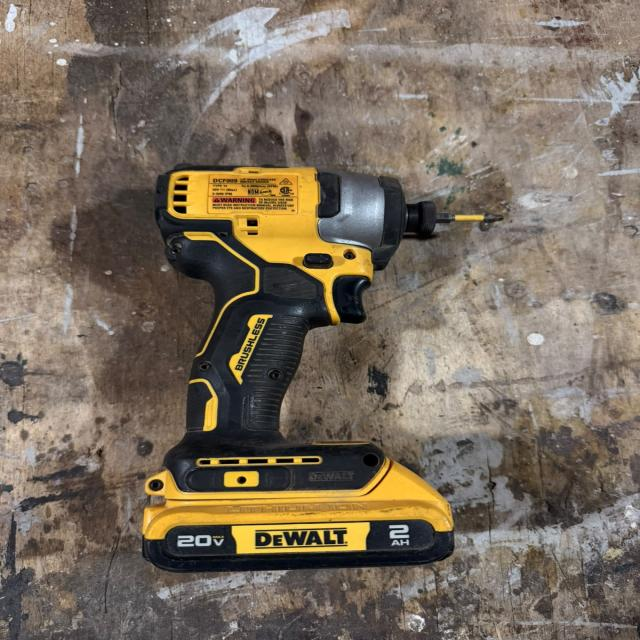Rotomartillo: (112, 88, 541, 596)
